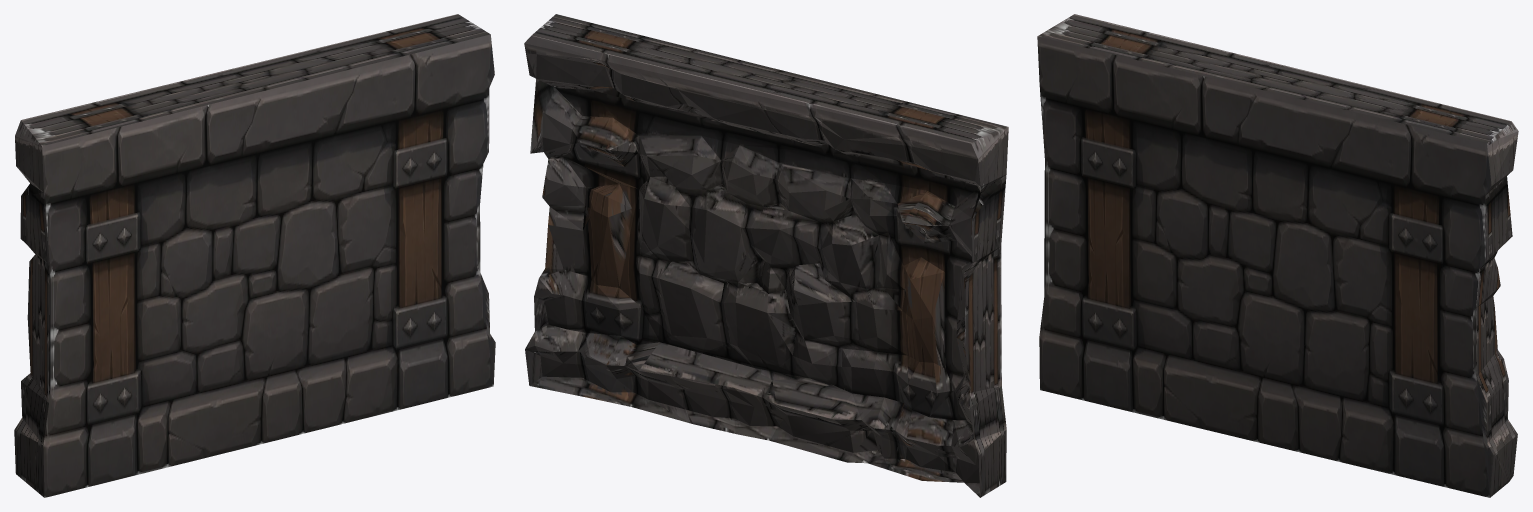
File: SM_Dungeon_Wall_A_LOD1.glb
3 views of the same model, side by side, from view 1: azimuth 30°, elevation 25°; view 2: azimuth 150°, elevation 25°; view 3: azimuth 330°, elevation 25° (orthographic).
Visible parts, largest first — view 1: SM_Dungeon_Wall_A_LOD1; view 2: SM_Dungeon_Wall_A_LOD1; view 3: SM_Dungeon_Wall_A_LOD1.
Part boxes in pixels (x1,y1,x2,y2): SM_Dungeon_Wall_A_LOD1: (14, 14, 495, 497); SM_Dungeon_Wall_A_LOD1: (524, 14, 1008, 497); SM_Dungeon_Wall_A_LOD1: (1037, 14, 1518, 497).
Bounding box in the file's own units: 4 × 2.99 × 0.4586.
1 material, 1 textured.
